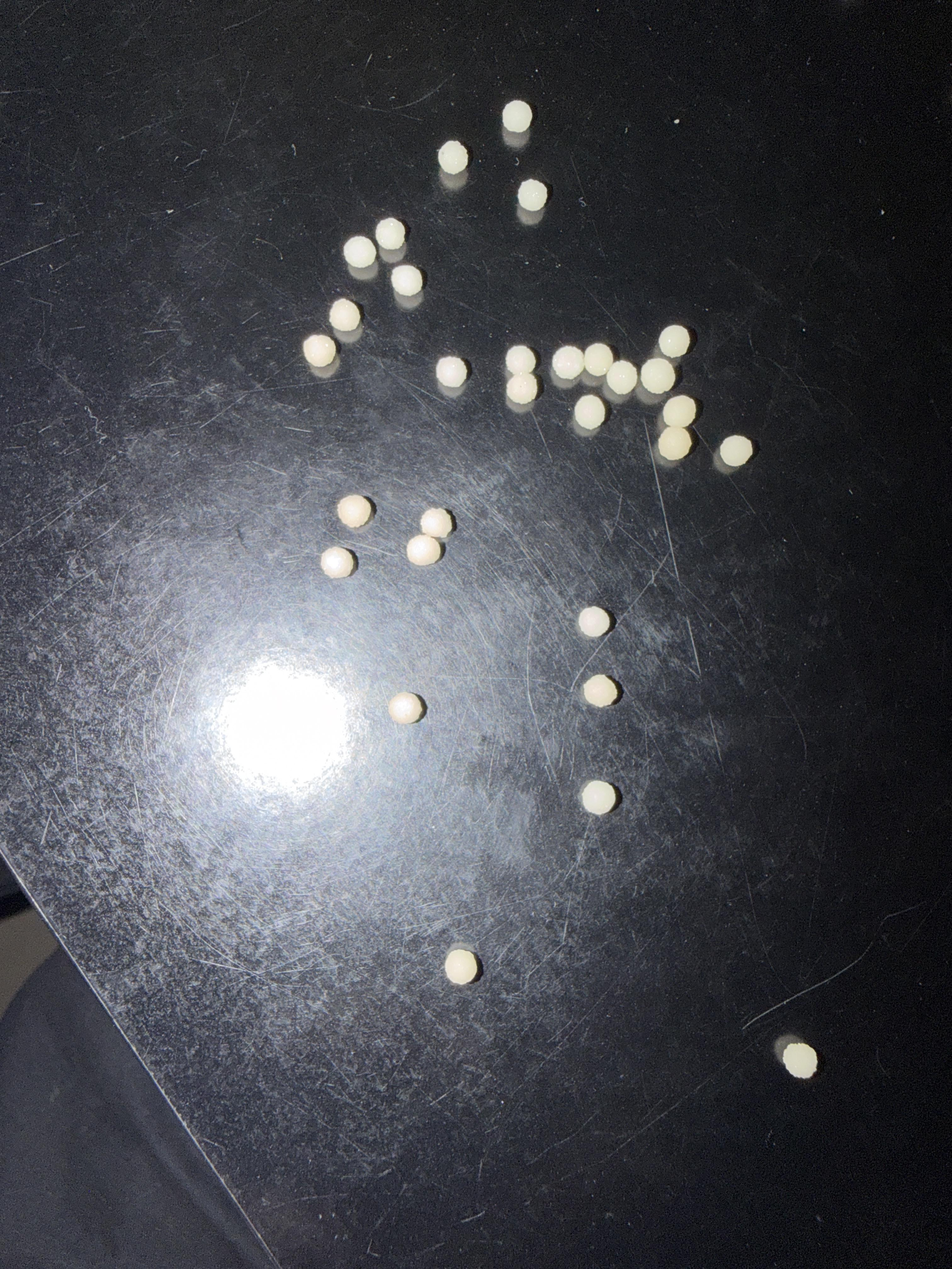pill: (782, 1041, 818, 1079), (444, 948, 479, 985), (581, 780, 617, 815), (641, 358, 675, 394), (662, 394, 697, 428), (302, 334, 337, 368), (605, 360, 638, 396), (583, 674, 619, 707), (406, 533, 442, 566), (574, 394, 606, 431), (658, 427, 692, 461), (551, 345, 584, 380), (337, 495, 373, 527), (388, 692, 423, 724), (320, 547, 356, 578), (343, 235, 376, 268), (577, 606, 611, 638), (719, 435, 753, 467), (329, 298, 361, 332), (420, 507, 454, 539), (438, 140, 469, 175), (391, 264, 423, 297), (435, 356, 468, 388), (658, 324, 690, 357), (502, 99, 533, 133), (584, 342, 614, 377), (517, 178, 548, 211), (375, 217, 405, 251), (507, 373, 537, 404), (507, 345, 536, 374)
